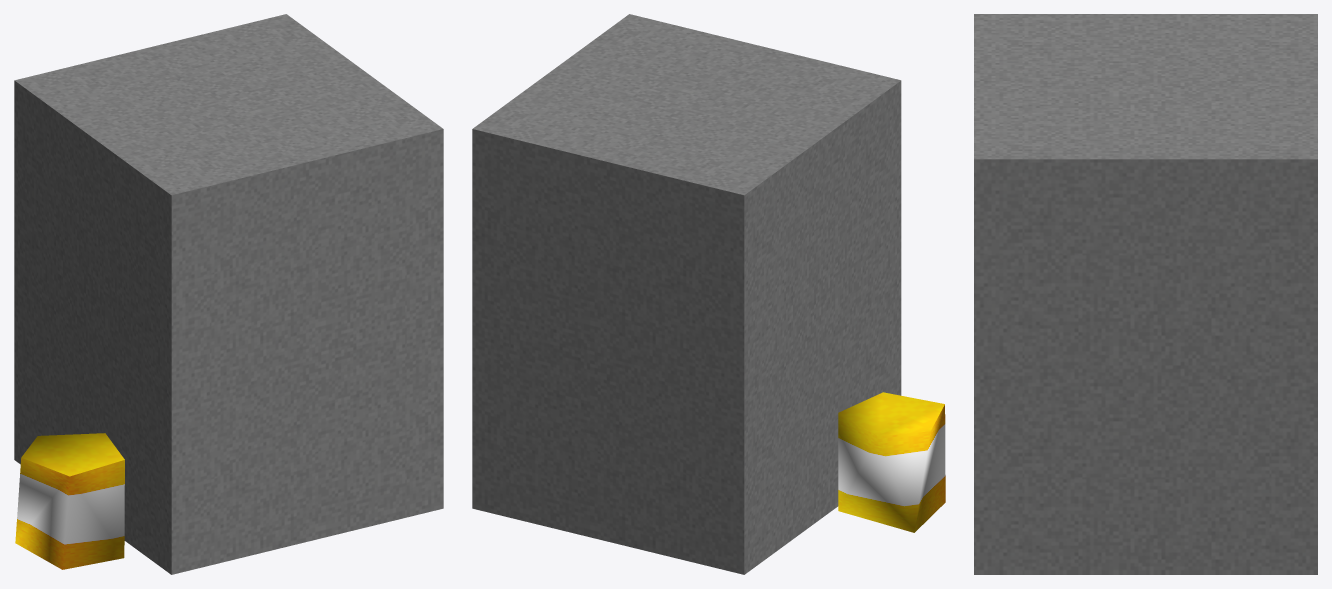
Rendered from pole-and-block.fbx.
3 renders of one model, left to right at view 1: azimuth 30°, elevation 25°; view 2: azimuth 150°, elevation 25°; view 3: azimuth 270°, elevation 25°, orthographic. The views are drawn at different scales.
Parts seen in each view (by area): view 1: Cube, Cylinder; view 2: Cube, Cylinder; view 3: Cube.
Boxes of the visible parts, left/top/right/bottom form: Cube: left=14, top=14, right=443, bottom=574; Cylinder: left=15, top=433, right=124, bottom=569; Cube: left=472, top=14, right=901, bottom=574; Cylinder: left=838, top=392, right=945, bottom=532; Cube: left=974, top=14, right=1317, bottom=574.
Size of the model in its own units: 399 by 400 by 300.
Materials: 2 (2 with a texture image).
